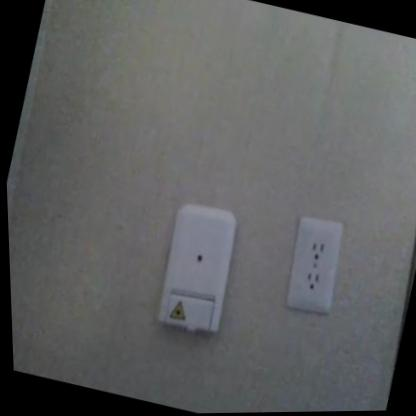OUTLET: (280, 214, 351, 315)
